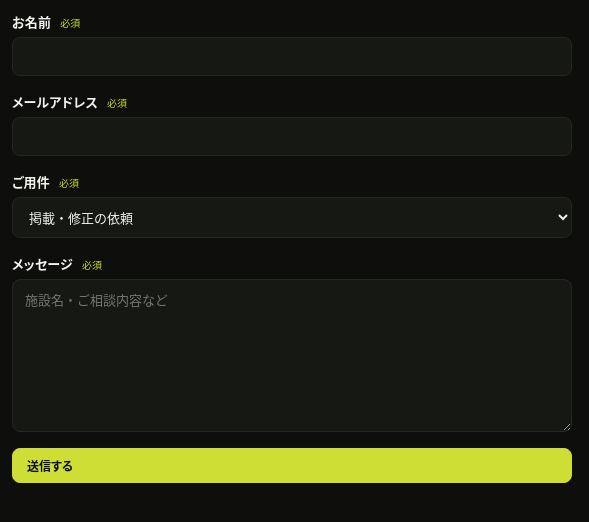
Test case: ContactForm › inline validation › flags a message shorter than 10 characters on blur
In the text box labelled "メッセージ 必須": (292, 355) left=12, top=279, right=572, bottom=432, type "短い"
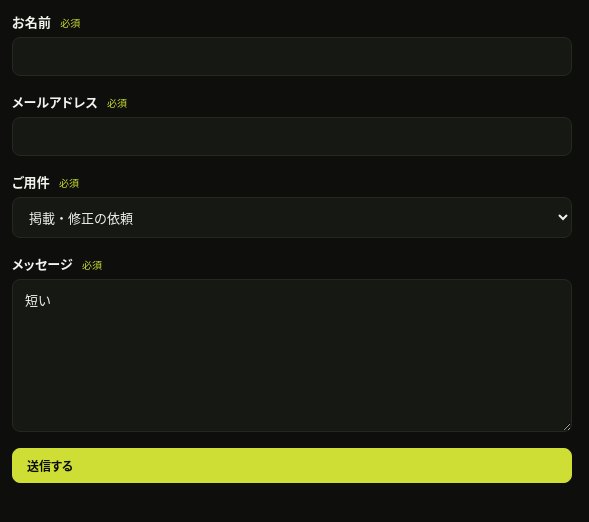
Leave the text box labelled "メッセージ 必須", box left=12, top=279, right=572, bottom=432
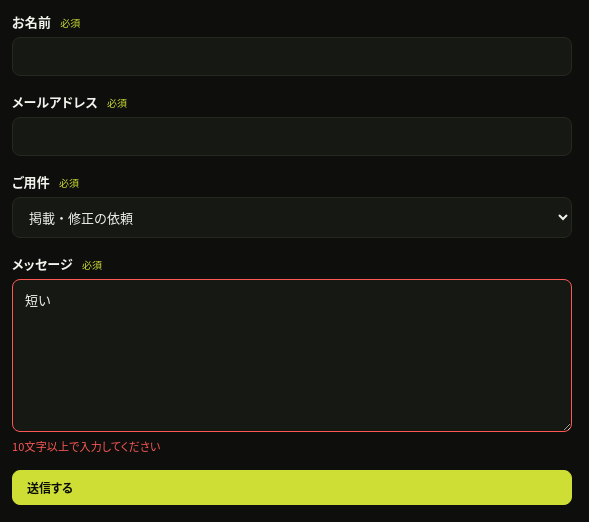
Expected: the text "10文字以上で入力してください" is shown, left=12, top=438, right=160, bottom=454
